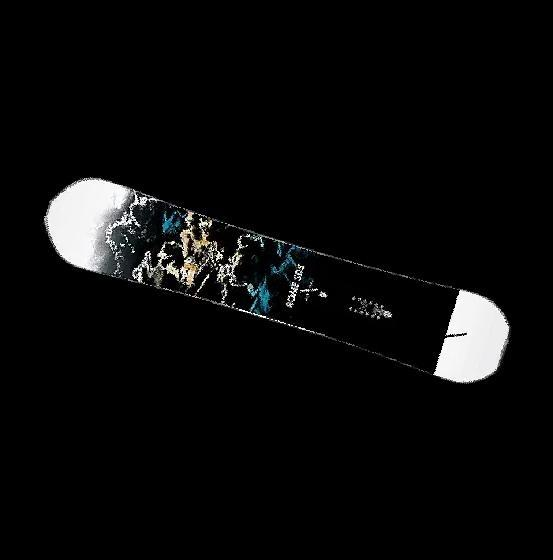Snowboard: (34, 171, 518, 407)
